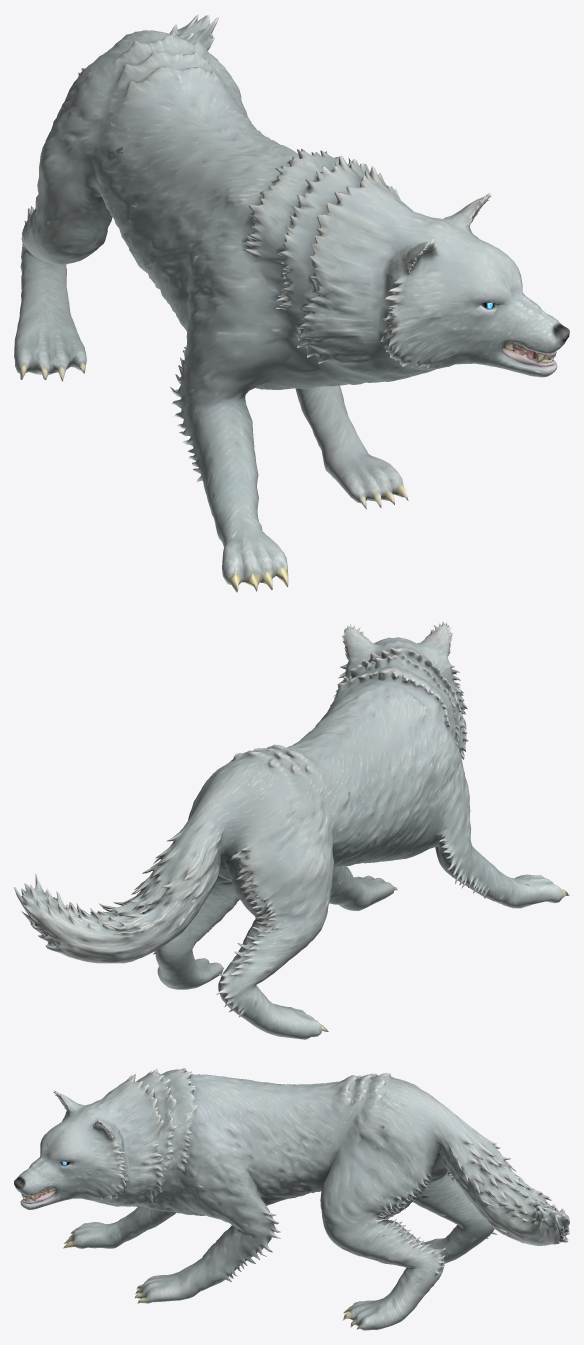
Rendered from MZ4250 - Winter Wolf.glb.
3 views of the same model, one above another, from view 1: azimuth 30°, elevation 25°; view 2: azimuth 150°, elevation 25°; view 3: azimuth 270°, elevation 25° (orthographic). The views are drawn at different scales.
Visible parts, largest first — view 1: Wolfey2.001; view 2: Wolfey2.001; view 3: Wolfey2.001.
Part boxes in pixels (x1,y1,x2,y2): Wolfey2.001: [14, 14, 569, 592]; Wolfey2.001: [14, 622, 569, 1039]; Wolfey2.001: [14, 1068, 569, 1330].
Bounding box in the file's own units: 32.96 × 29.69 × 68.47.
Materials: 1 (1 with a texture image).
